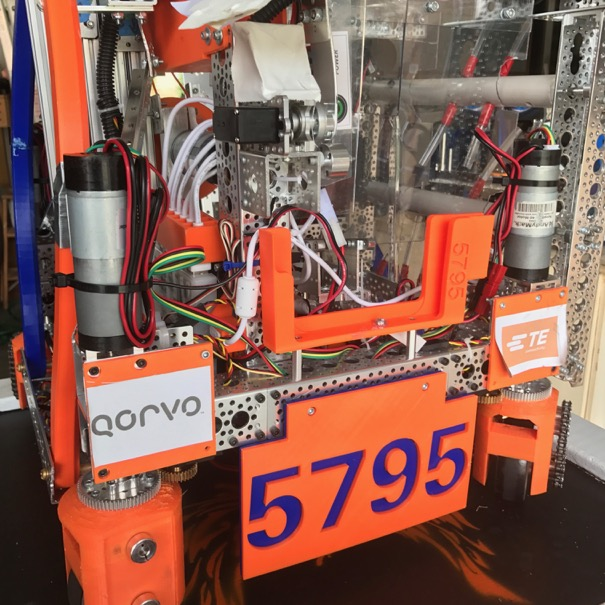robot: (0, 0, 602, 604)
